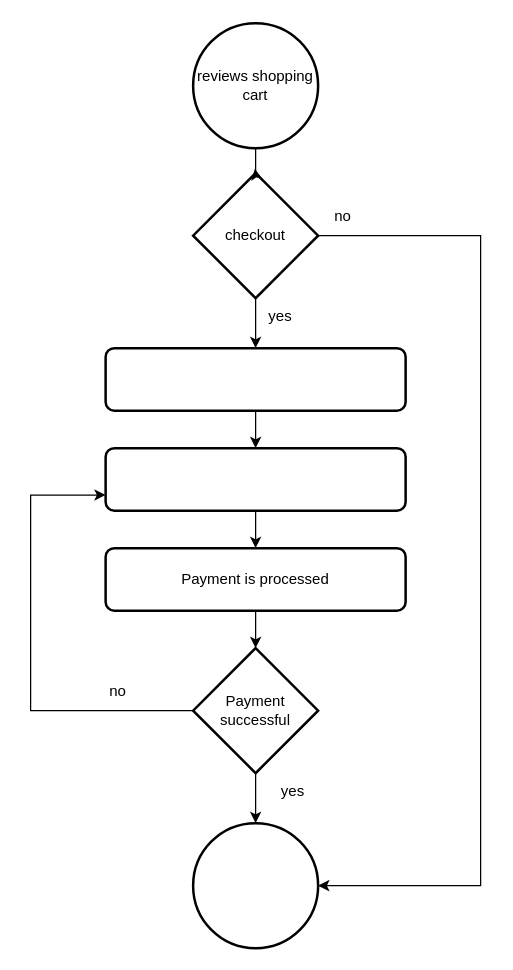
The diagram is 513 pixels wide and 970 high, and some of its shapes have lost their labels. The shapes that lost their labels are listed below. From the top down, each one's centre as x and y in pixels, then its label:
At (x=255, y=378): "displays order summary".
At (x=255, y=478): "payment method".
